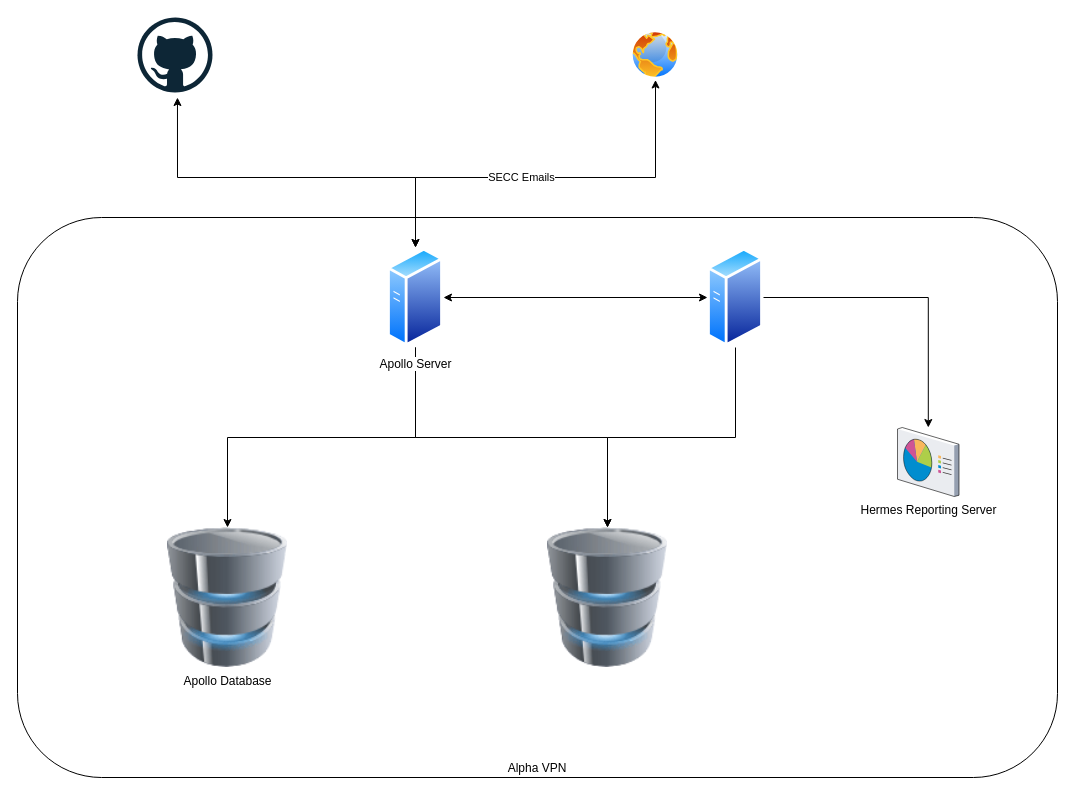
Some shapes in this 1075 by 795 pixel diagram are drawn without their labels. The shapes that lost their labels are listed below. From the top down, each one's centre as x and y in pixels, then its label:
point (735, 297): Cassandra Server
point (607, 597): Cassandra Database
